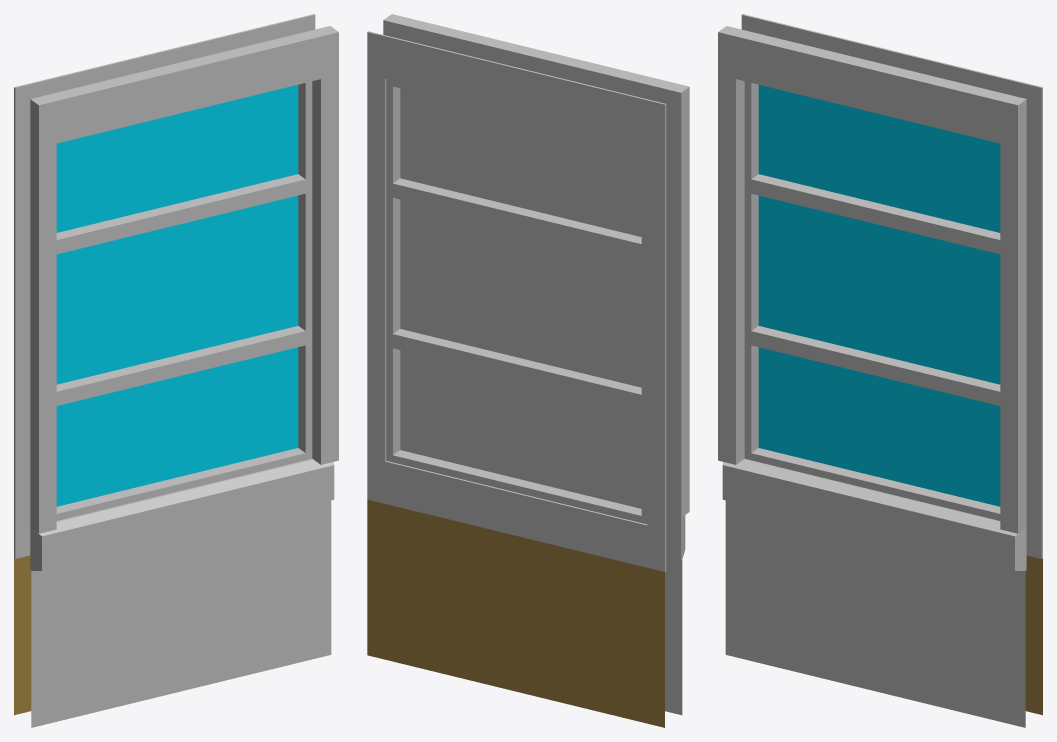
Rendered from backroomsWindow_001.FBX.
The picture shows the model from 3 angles, left to right: view 1: azimuth 30°, elevation 25°; view 2: azimuth 150°, elevation 25°; view 3: azimuth 330°, elevation 25°; orthographic projection.
Visible parts, largest first — view 1: ProjectedWindow002; view 2: ProjectedWindow002; view 3: ProjectedWindow002.
Part boxes in pixels (bbox=[...]): ProjectedWindow002: bbox=[14, 14, 338, 727]; ProjectedWindow002: bbox=[367, 14, 689, 727]; ProjectedWindow002: bbox=[718, 14, 1042, 727].
Size of the model in its own units: 78.74 by 11.26 by 157.
